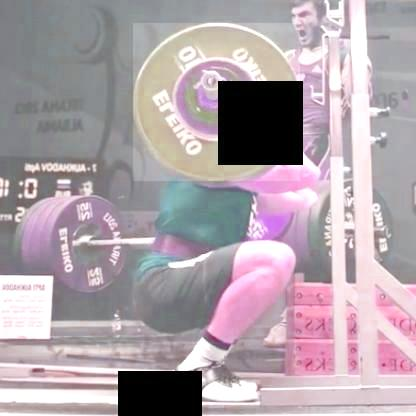barbell: (132, 24, 299, 182)
